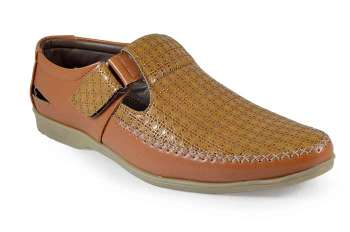Footwear: (26, 24, 340, 199)
